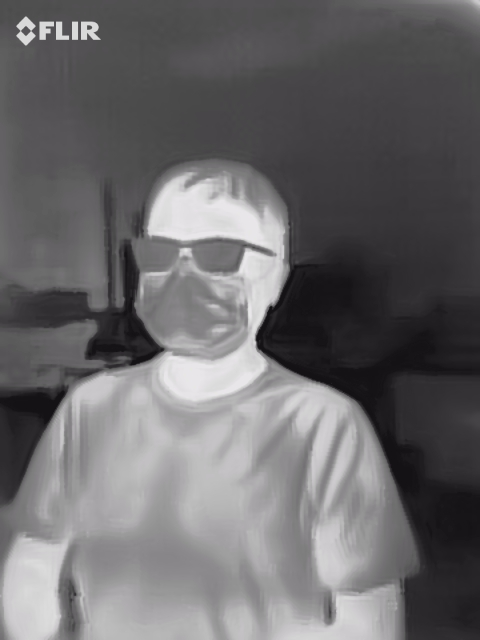head: (130, 156, 293, 361)
